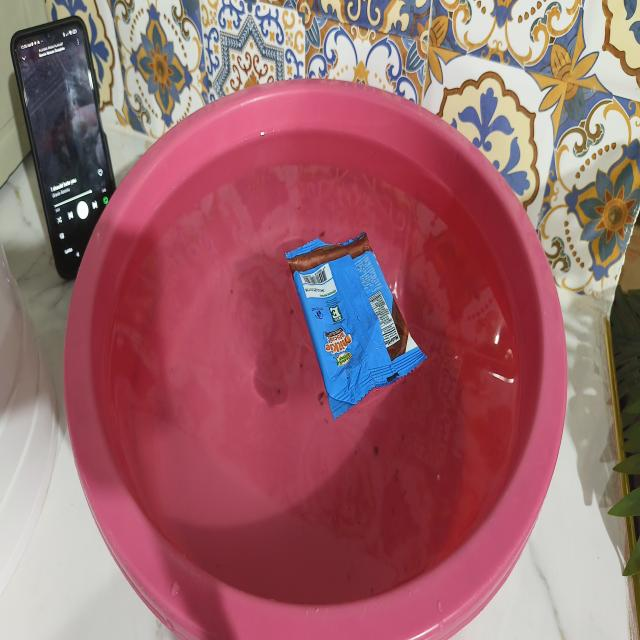Plastic Wrapper: (286, 232, 426, 417)
